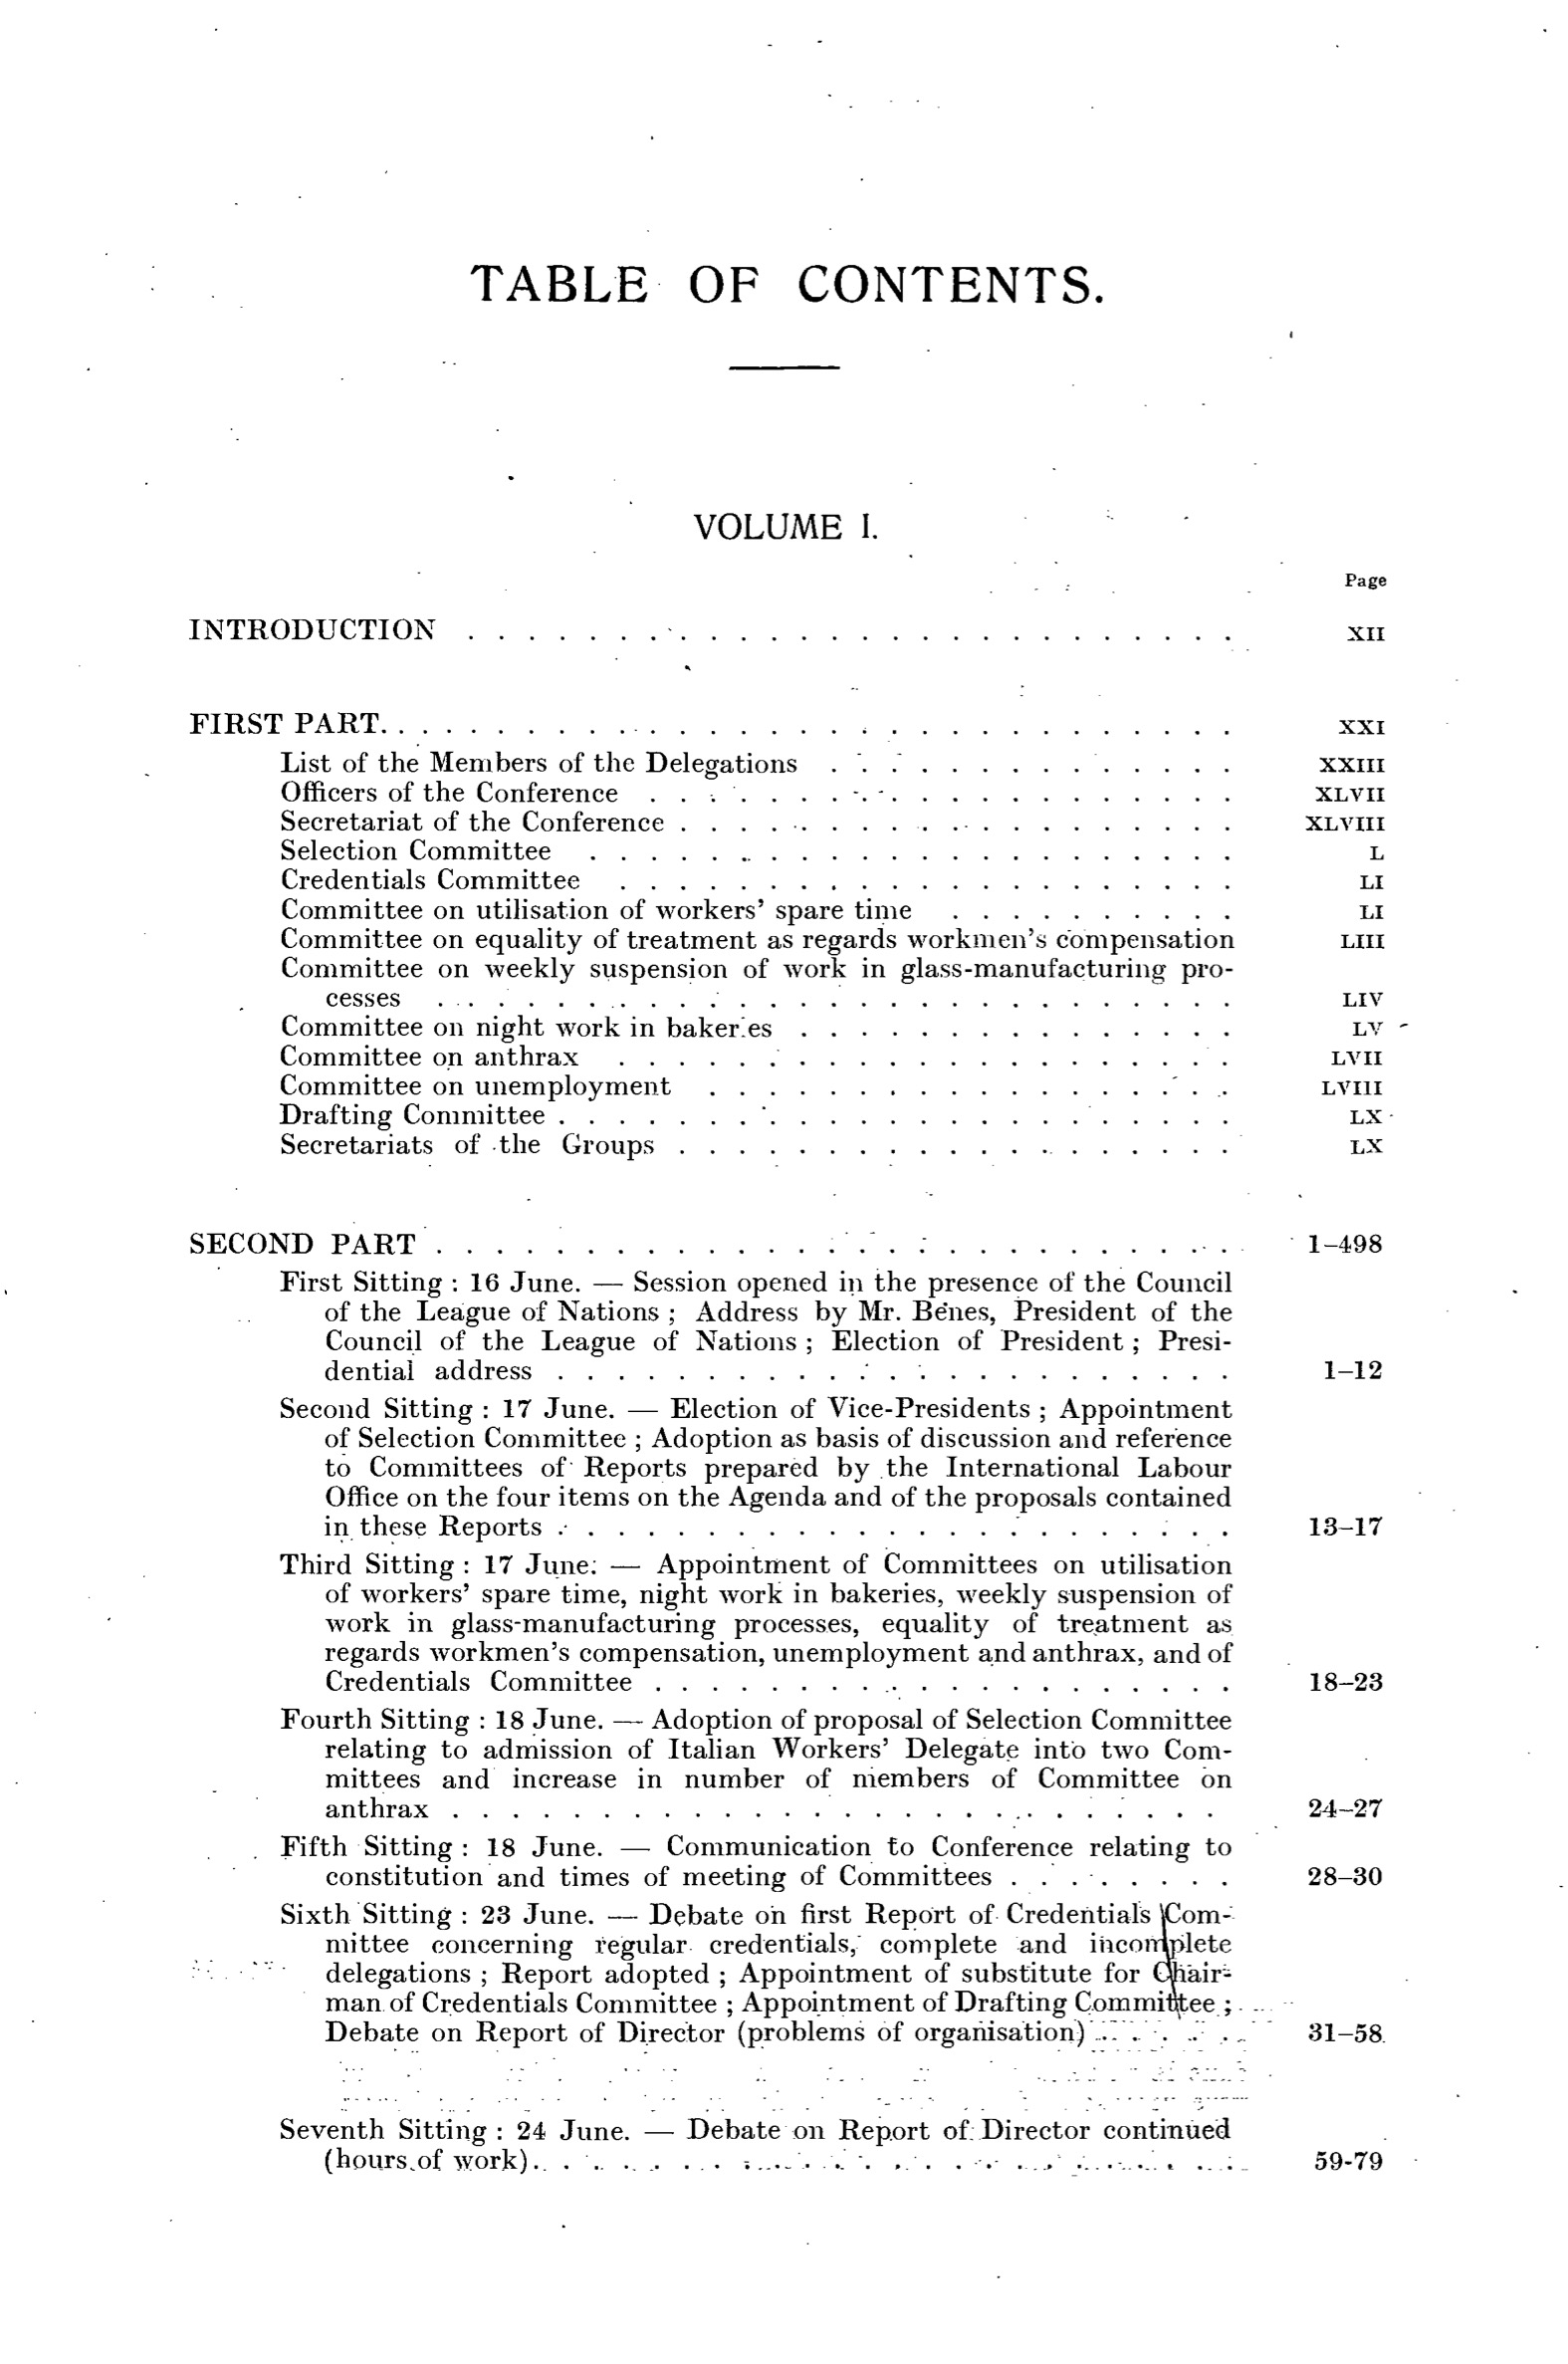MainZone-Head: (454, 241, 1125, 331), (680, 496, 889, 558)
QuireMarksZone: (165, 582, 1440, 2205)
